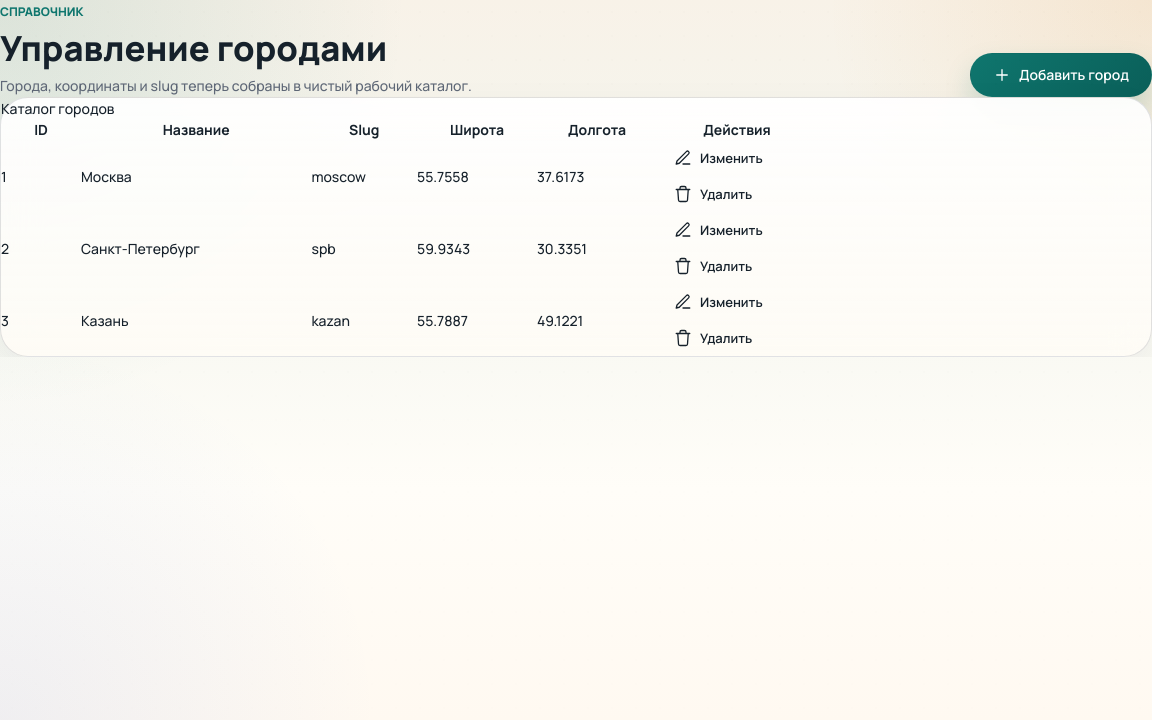
CityManagement › opens edit modal with city data when clicking edit
Click the button "Изменить" in the row of "Москва" at (718, 158), box [657,140,780,176]
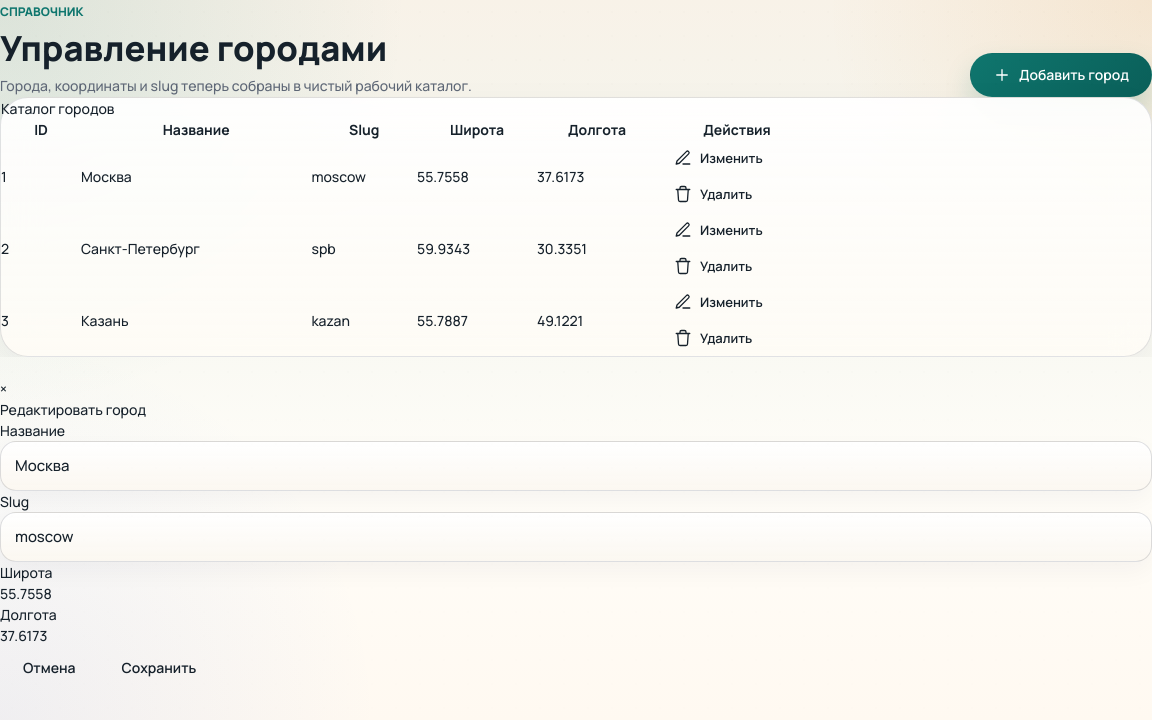
Expected: the text "Редактировать город" is shown, [0,400,146,419]
